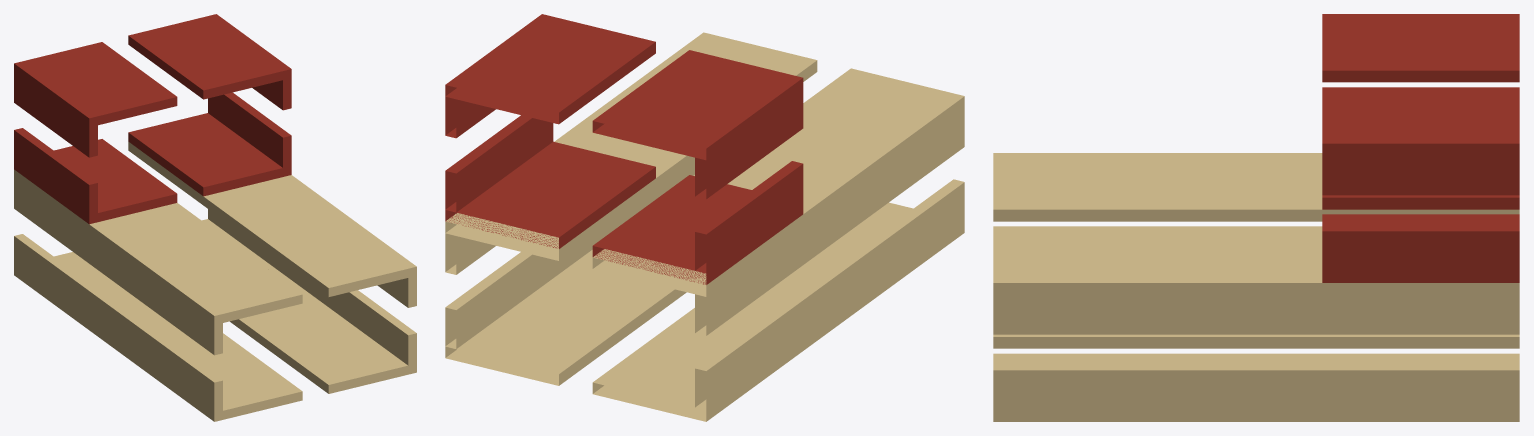
Rendered from construction_1.glb.
3 views of the same model, side by side, from view 1: azimuth 30°, elevation 25°; view 2: azimuth 150°, elevation 25°; view 3: azimuth 270°, elevation 25° (orthographic). The views are drawn at different scales.
Visible parts, largest first — view 1: construction_1; view 2: construction_1; view 3: construction_1.
Part boxes in pixels (<box>): construction_1: <box>14,14,416,421</box>; construction_1: <box>445,14,964,421</box>; construction_1: <box>993,14,1519,421</box>.
Size of the model in its own units: 14 by 14 by 24.
